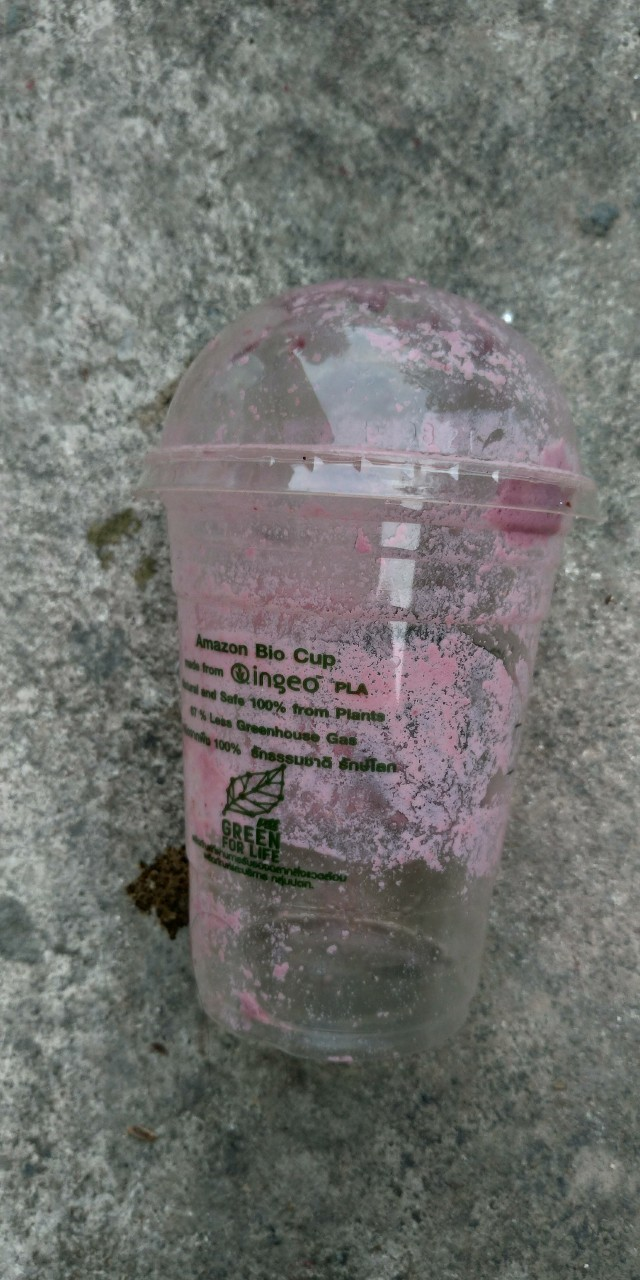PlasticCup: (146, 280, 588, 1049)
